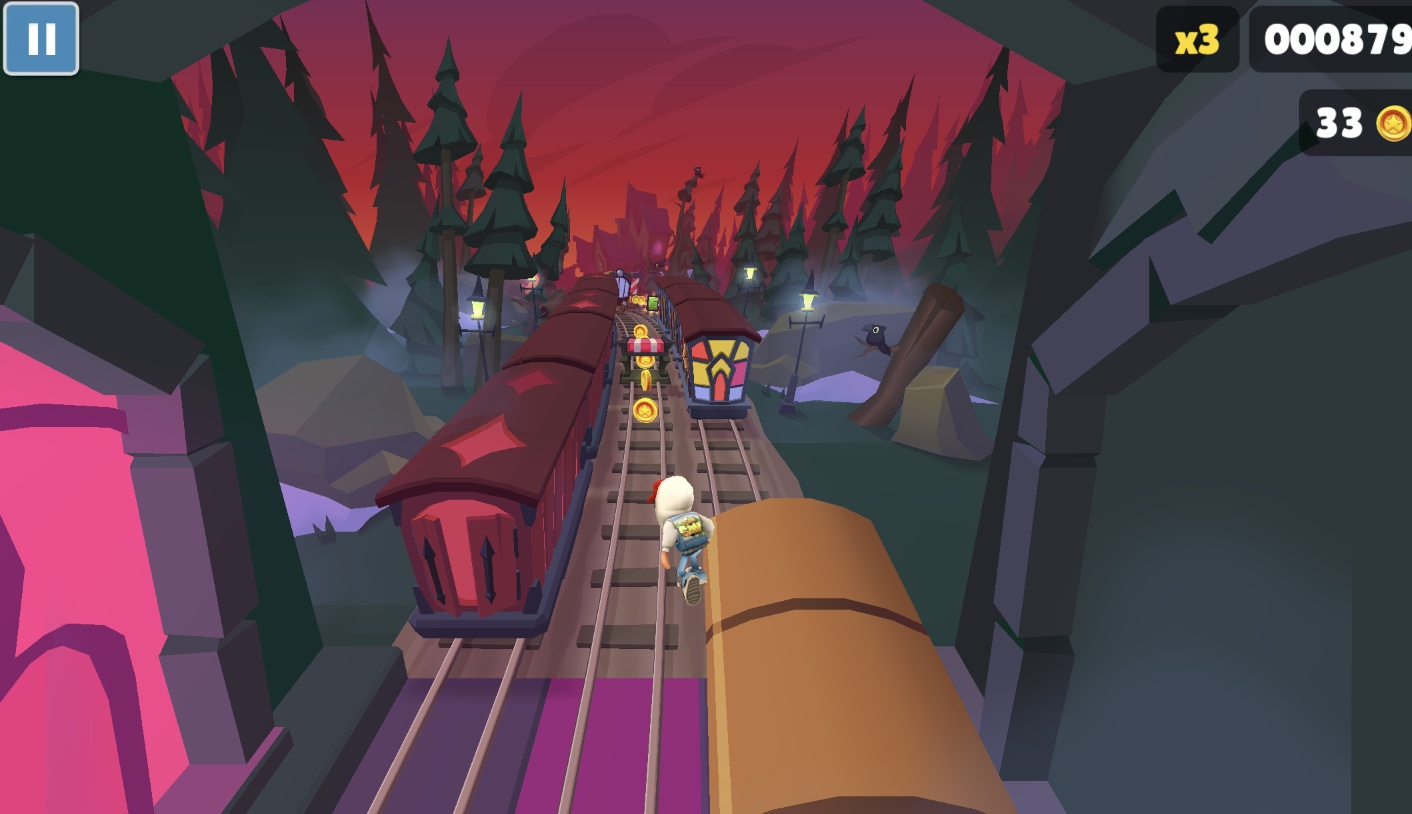ground_barrier: (625, 337, 674, 384)
overhead_barrier: (630, 271, 642, 296)
train: (705, 508, 1036, 814), (380, 274, 623, 651), (655, 275, 770, 421), (614, 269, 641, 303)
